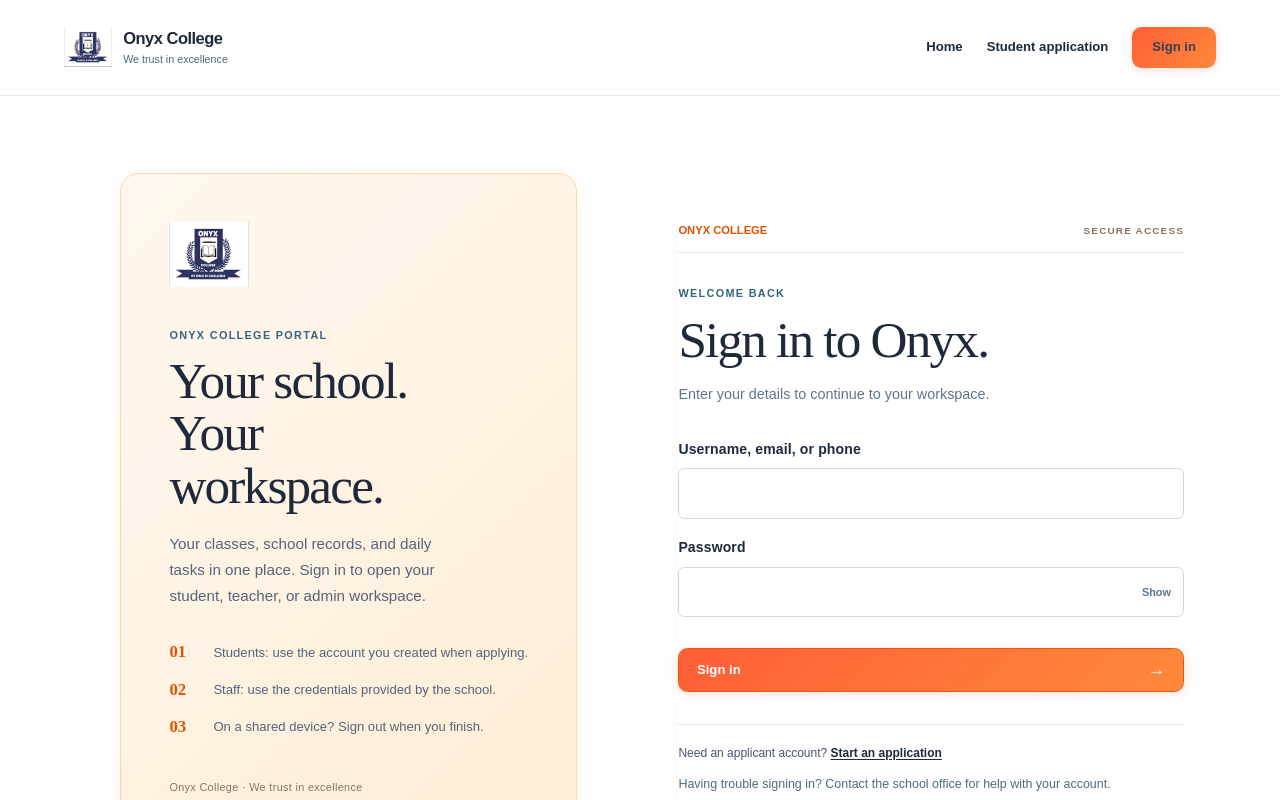
Scenario: browser authentication lifecycle › returns a student to the protected page they originally opened
Type "student.one" into the field labelled "Username, email, or phone" at (931, 494), box [678,468,1184,519]
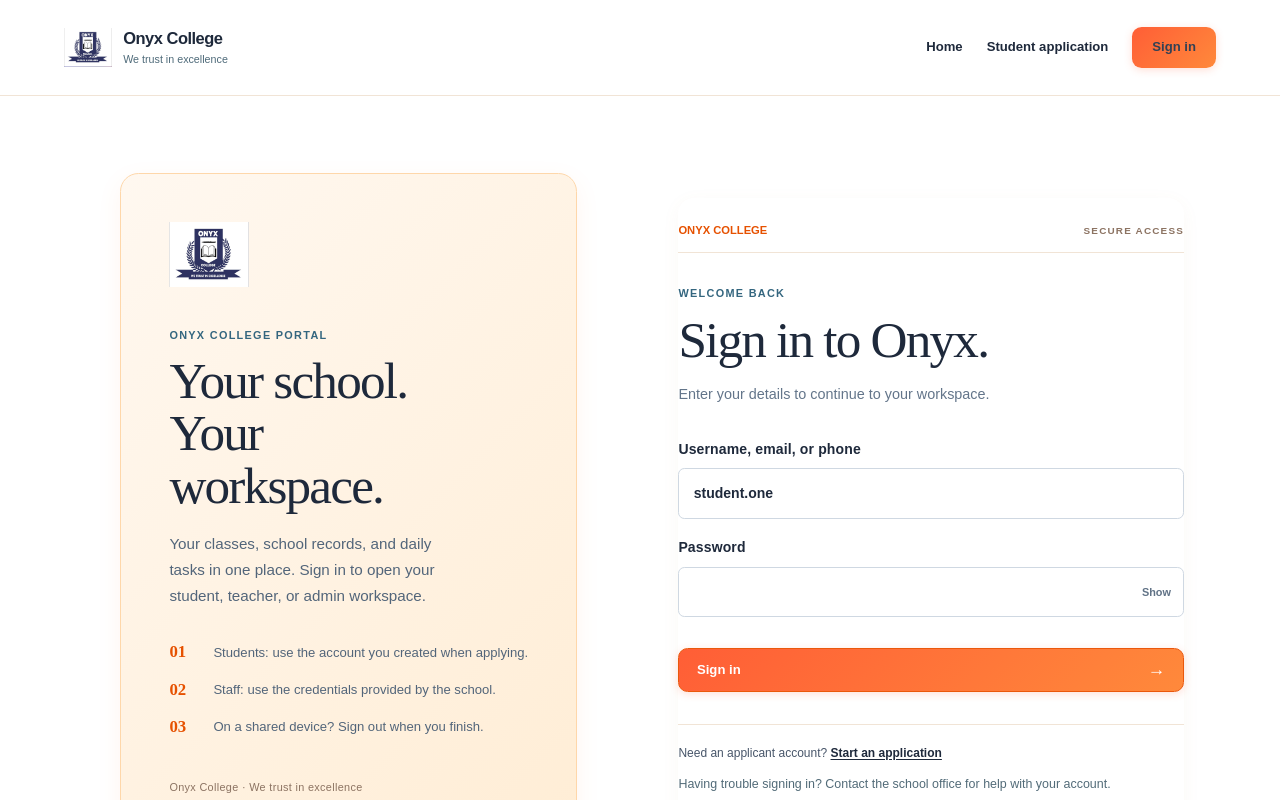
Type "a-secure-password" into the password field labelled "Password Show" at (931, 592), box [678,567,1184,617]
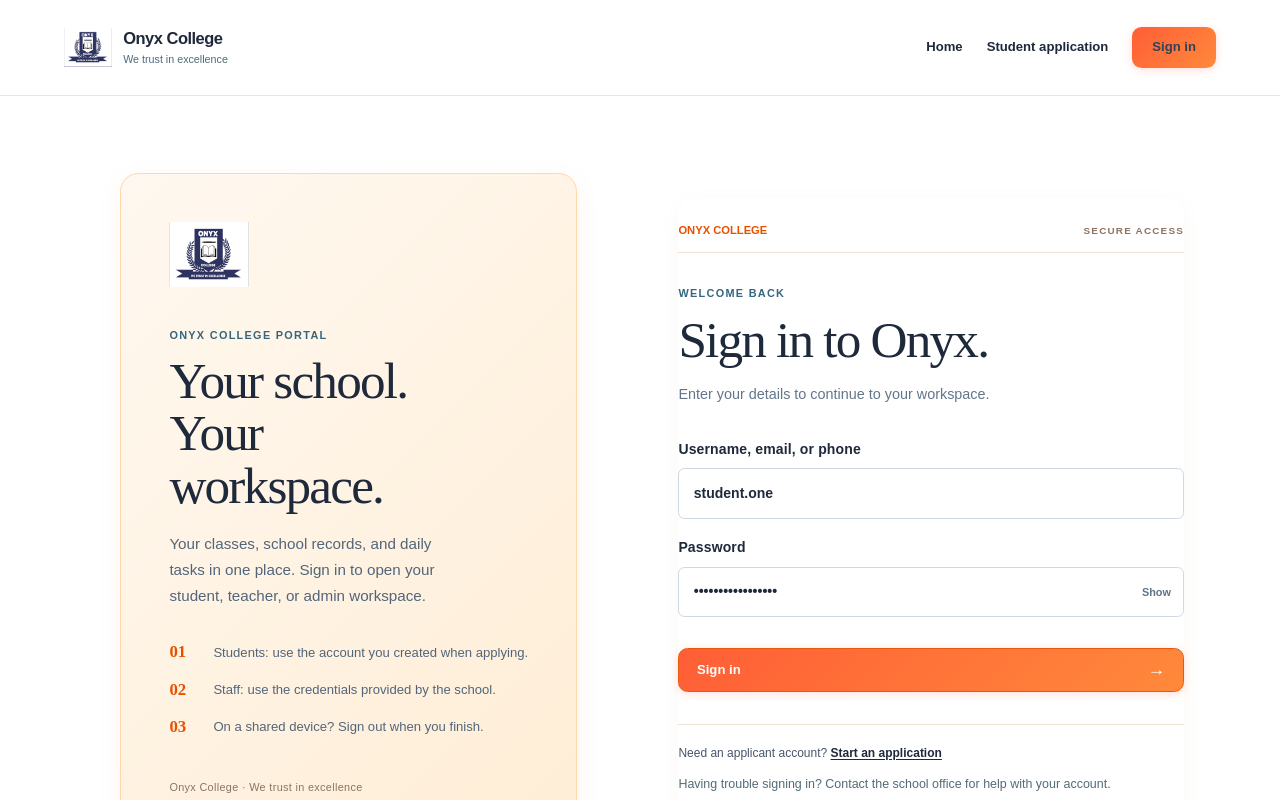
Click the button "Sign in →" at (719, 670), box [678,648,1184,692]
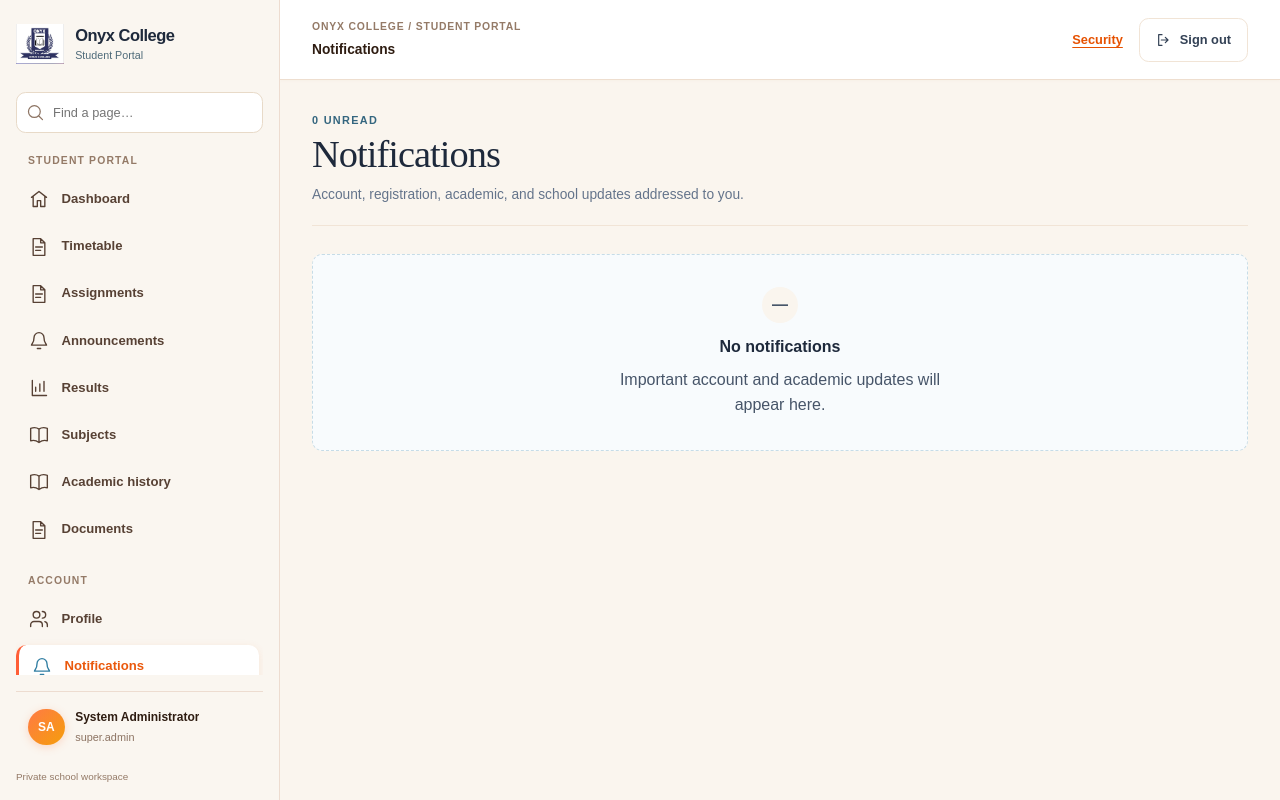
Result: the heading "Notifications" is shown at [312,133,500,175]
